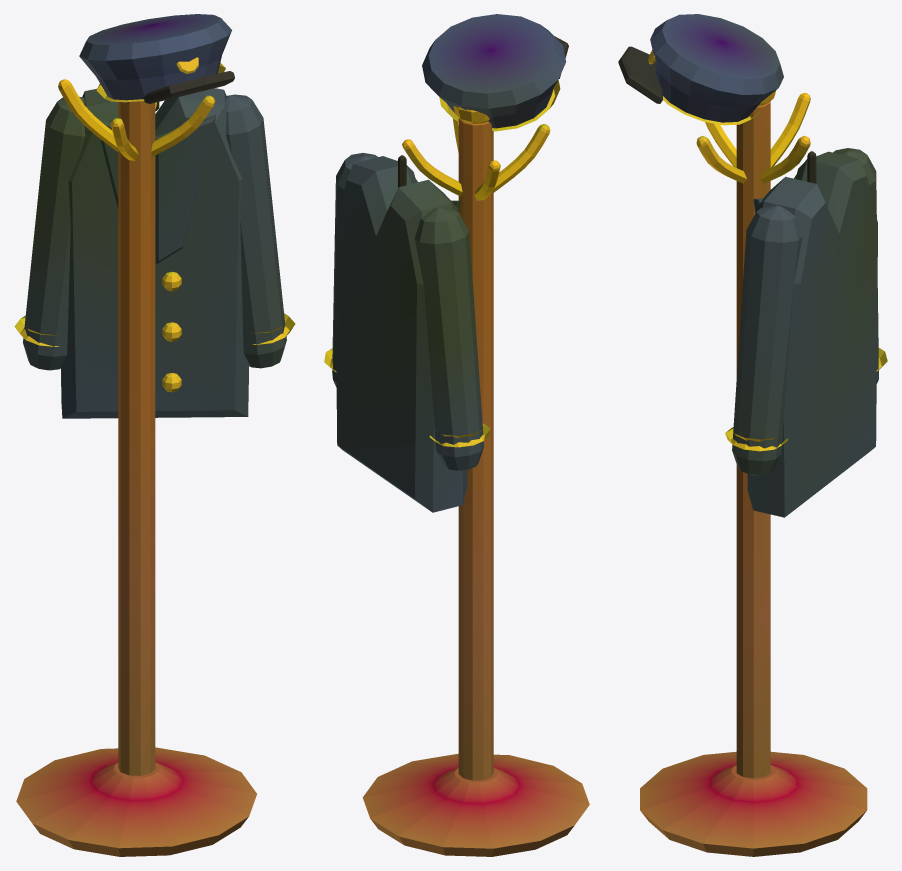
Rendered from Prop_CoatStand.glb.
3 views of the same model, side by side, from view 1: azimuth 30°, elevation 25°; view 2: azimuth 150°, elevation 25°; view 3: azimuth 270°, elevation 25° (orthographic). The views are drawn at different scales.
Parts seen in each view (by area): view 1: Prop_CoatStand; view 2: Prop_CoatStand; view 3: Prop_CoatStand.
Boxes of the visible parts, <box> form: Prop_CoatStand: <box>14,14,295,856</box>; Prop_CoatStand: <box>324,14,589,856</box>; Prop_CoatStand: <box>618,14,887,856</box>.
Size of the model in its own units: 0.6471 by 1.92 by 0.6013.
